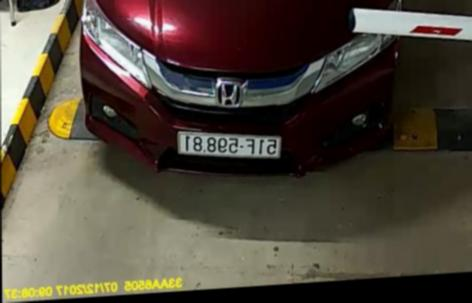License_Plate: (176, 123, 285, 165)
